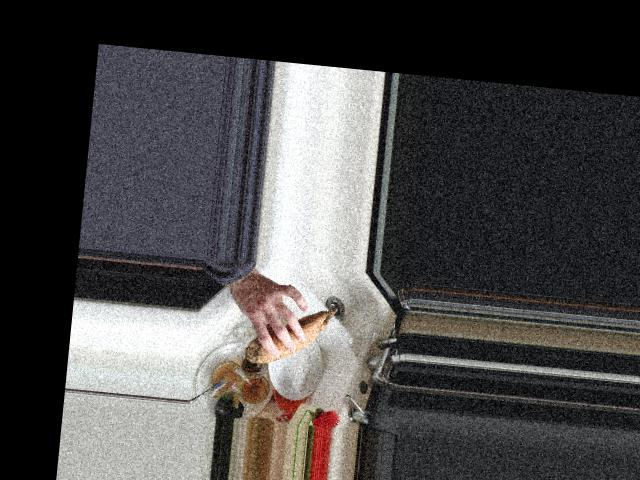sweet_potato: (244, 299, 338, 371)
